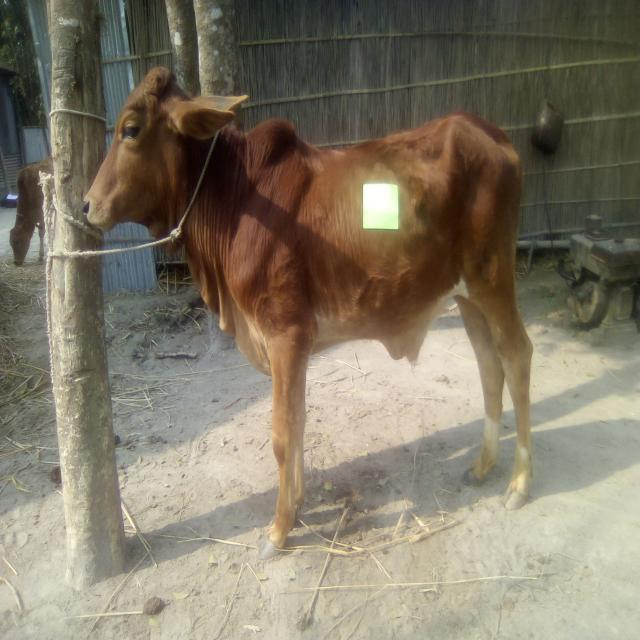badan_sapi: (256, 114, 515, 346)
sapi: (76, 60, 544, 564)
